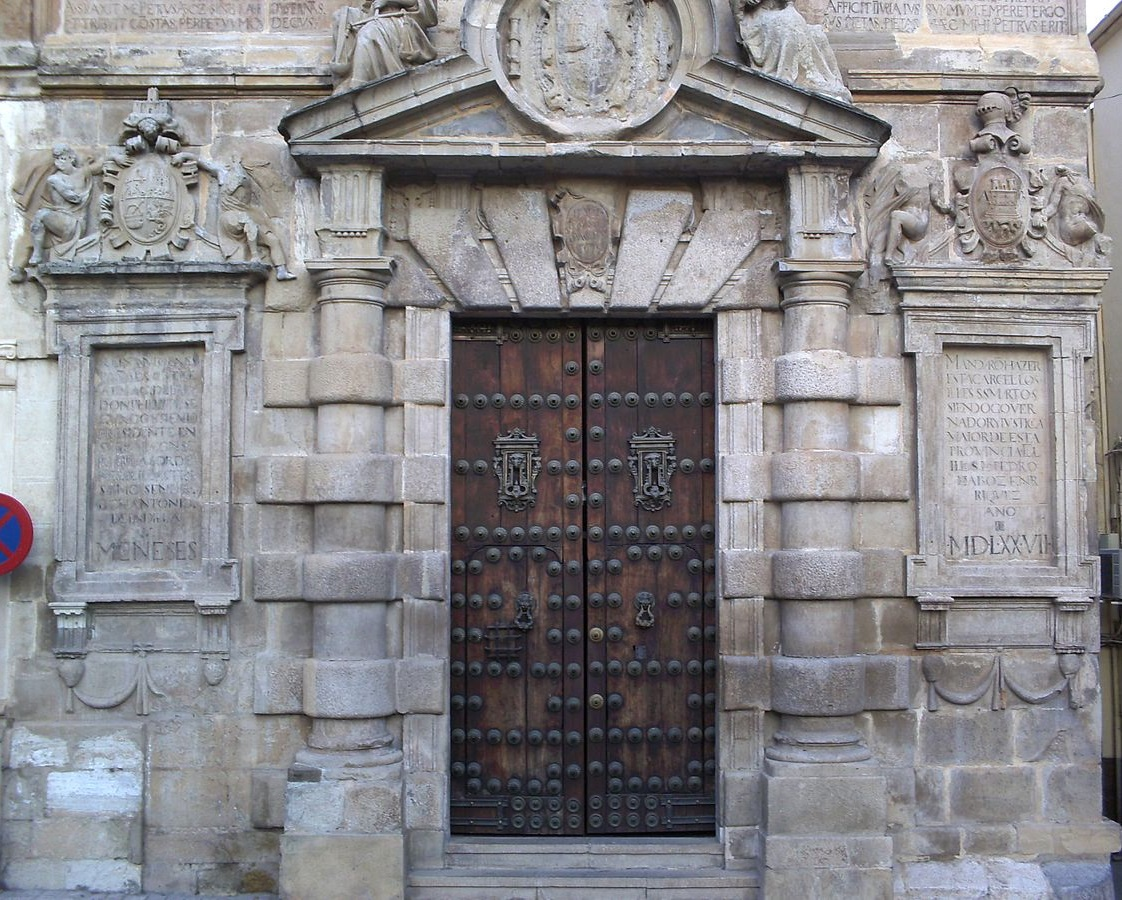fronton-partido: (266, 33, 905, 174)
vano-adintelado: (398, 252, 771, 875)
